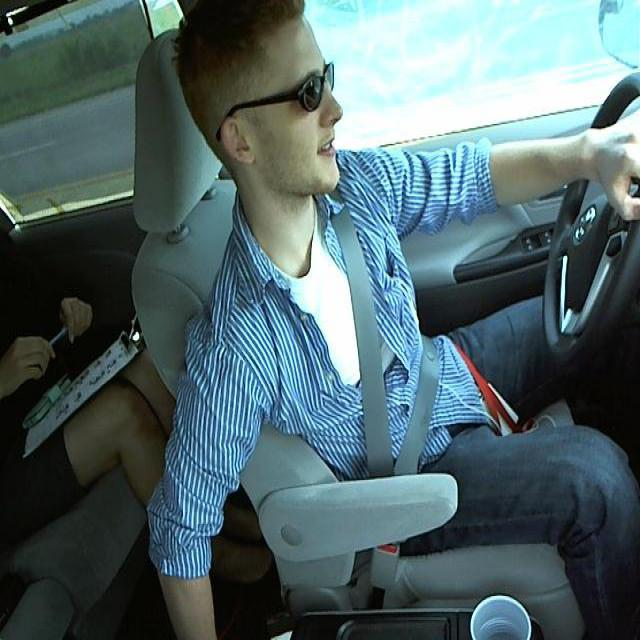seatbelt: (326, 204, 447, 480)
